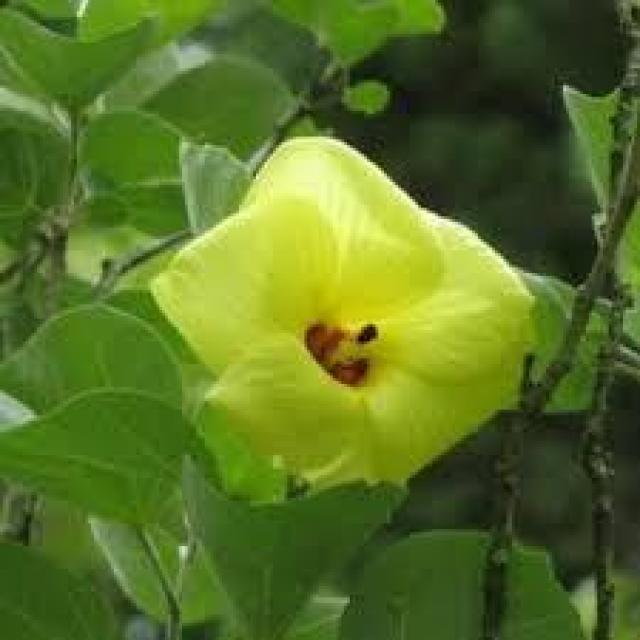organic waste: (144, 115, 556, 505)
